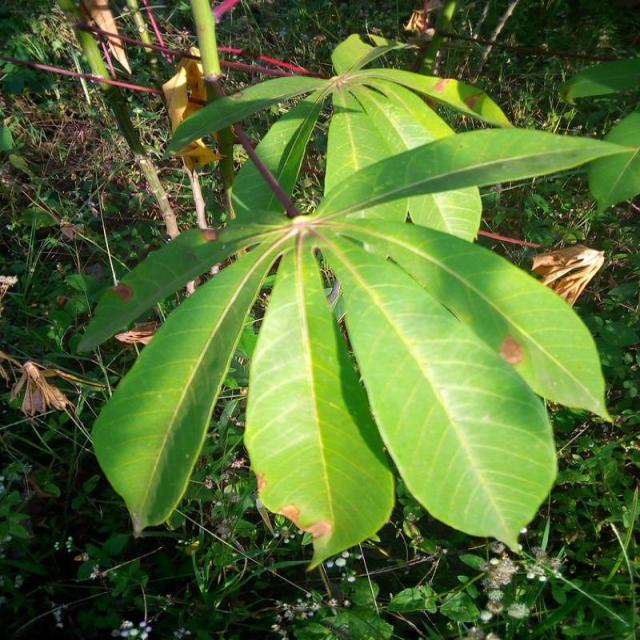cassava leaf: (84, 31, 630, 570), (242, 227, 396, 571)
